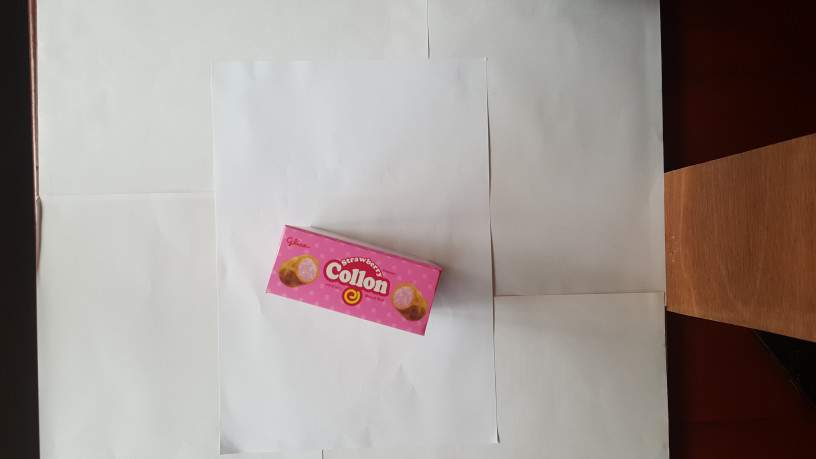collon-strawberry: (261, 222, 446, 339)
